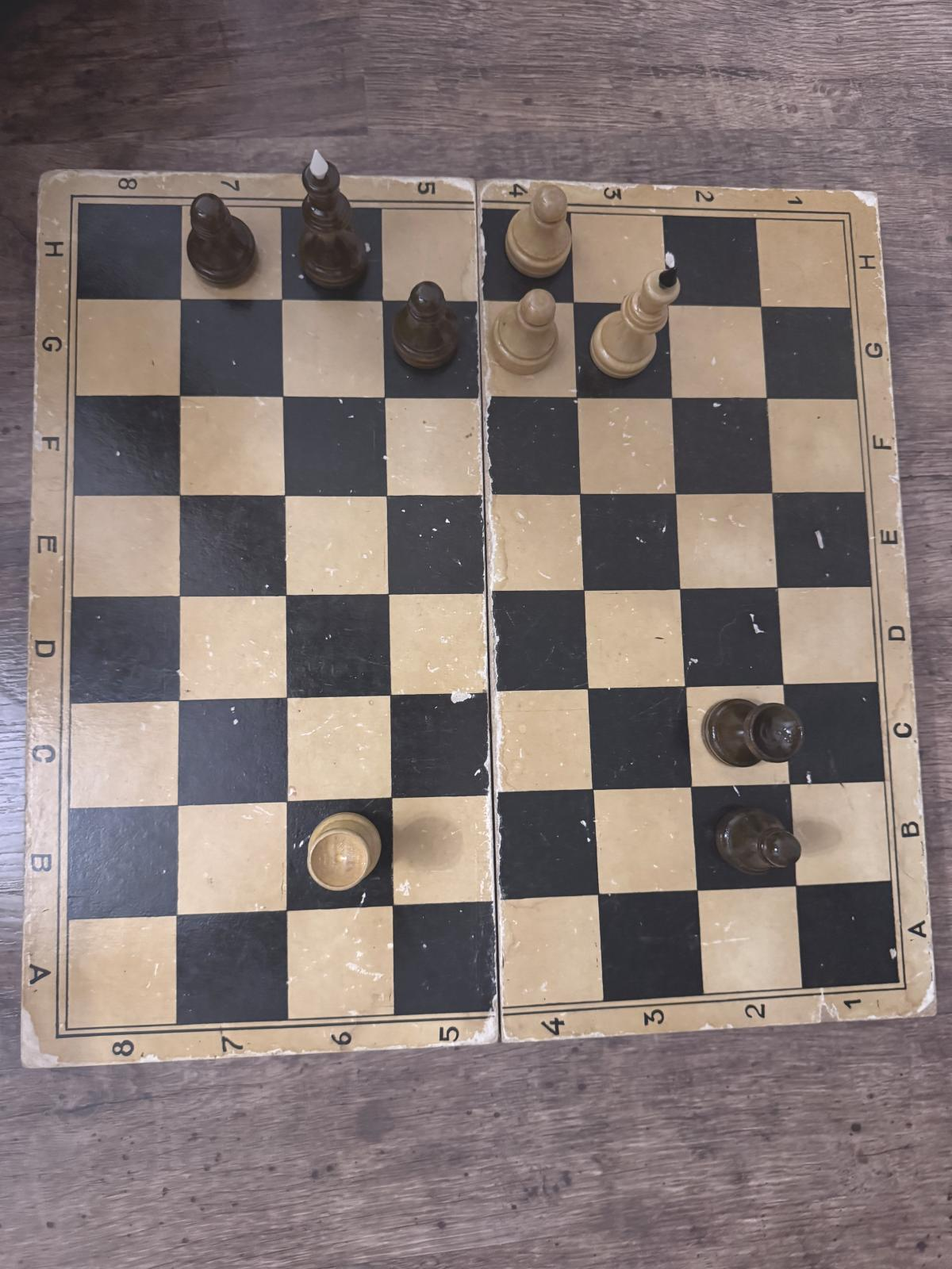Chess-Board: (66, 203, 899, 1030)
